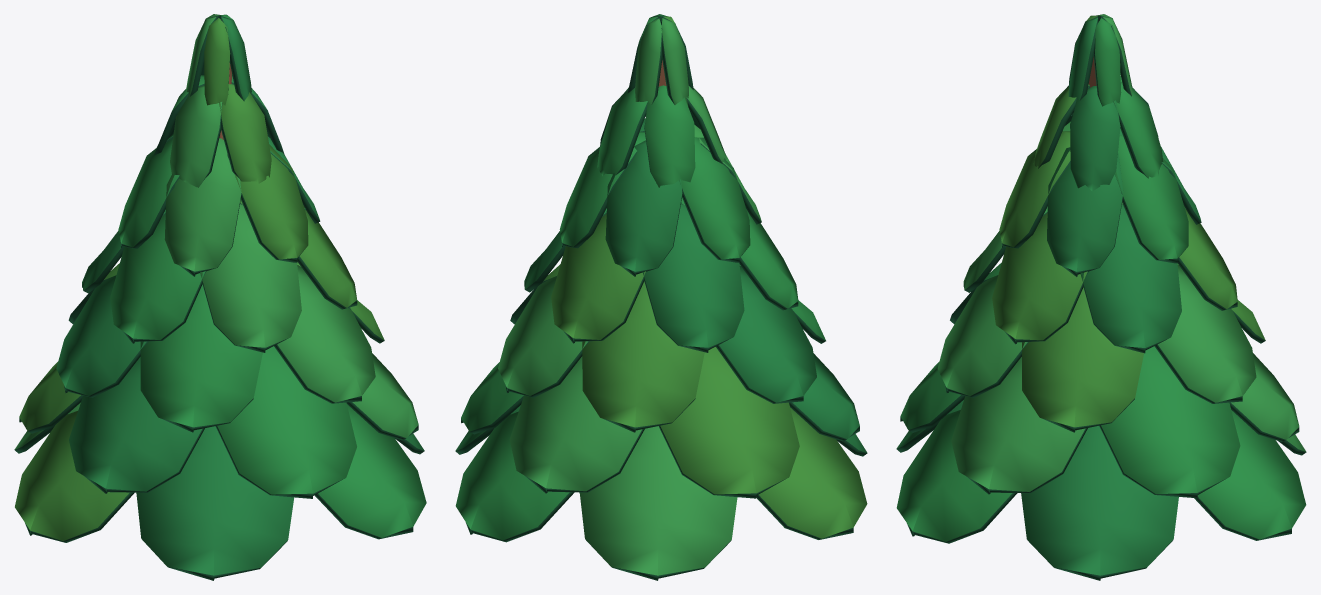
3 renders of one model, left to right at view 1: azimuth 30°, elevation 25°; view 2: azimuth 150°, elevation 25°; view 3: azimuth 270°, elevation 25°, orthographic.
Parts seen in each view (by area): view 1: pine-chunky; view 2: pine-chunky; view 3: pine-chunky.
Part boxes in pixels (x1,y1,x2,y2): pine-chunky: [14, 14, 426, 580]; pine-chunky: [455, 14, 867, 580]; pine-chunky: [896, 14, 1306, 580].
Bounding box in the file's own units: 4.86 × 6.47 × 4.52.
